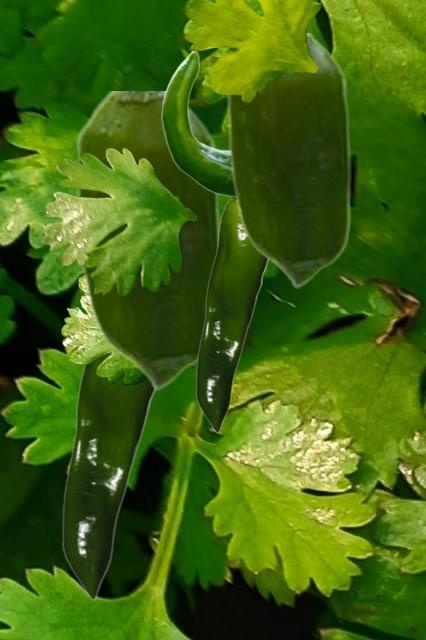green_chili: (74, 91, 220, 389), (226, 33, 350, 287), (61, 355, 158, 599), (195, 198, 268, 432), (161, 51, 233, 195)
